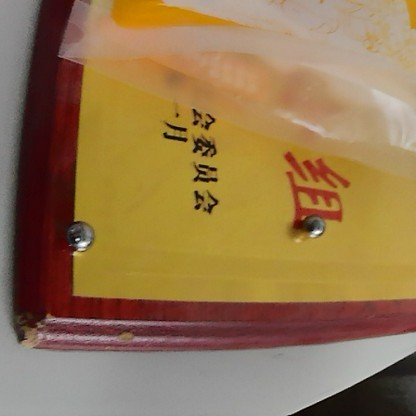ironball: (54, 210, 93, 253), (296, 210, 330, 242)
